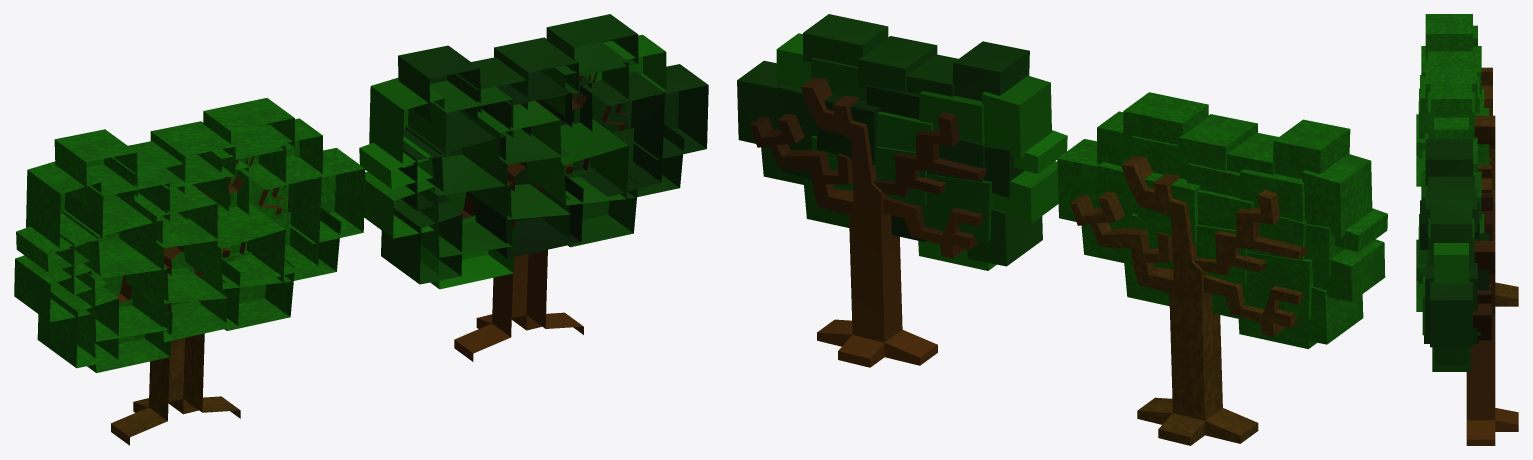
File: Tree_Texture_Test.FBX
3 renders of one model, left to right at view 1: azimuth 30°, elevation 25°; view 2: azimuth 150°, elevation 25°; view 3: azimuth 270°, elevation 25°, orthographic. The views are drawn at different scales.
Visible parts, largest first — view 1: Tree003, Tree001; view 2: Tree003, Tree001; view 3: Tree001, Tree003.
Part boxes in pixels (left/top/right/bottom): Tree003: left=14, top=98, right=365, bottom=445; Tree001: left=359, top=14, right=708, bottom=361; Tree003: left=1057, top=92, right=1387, bottom=445; Tree001: left=737, top=14, right=1067, bottom=367; Tree001: left=1416, top=139, right=1518, bottom=445; Tree003: left=1416, top=14, right=1518, bottom=306.
Bounding box in the file's own units: 1387 × 640 × 246.
2 materials, 2 textured.
